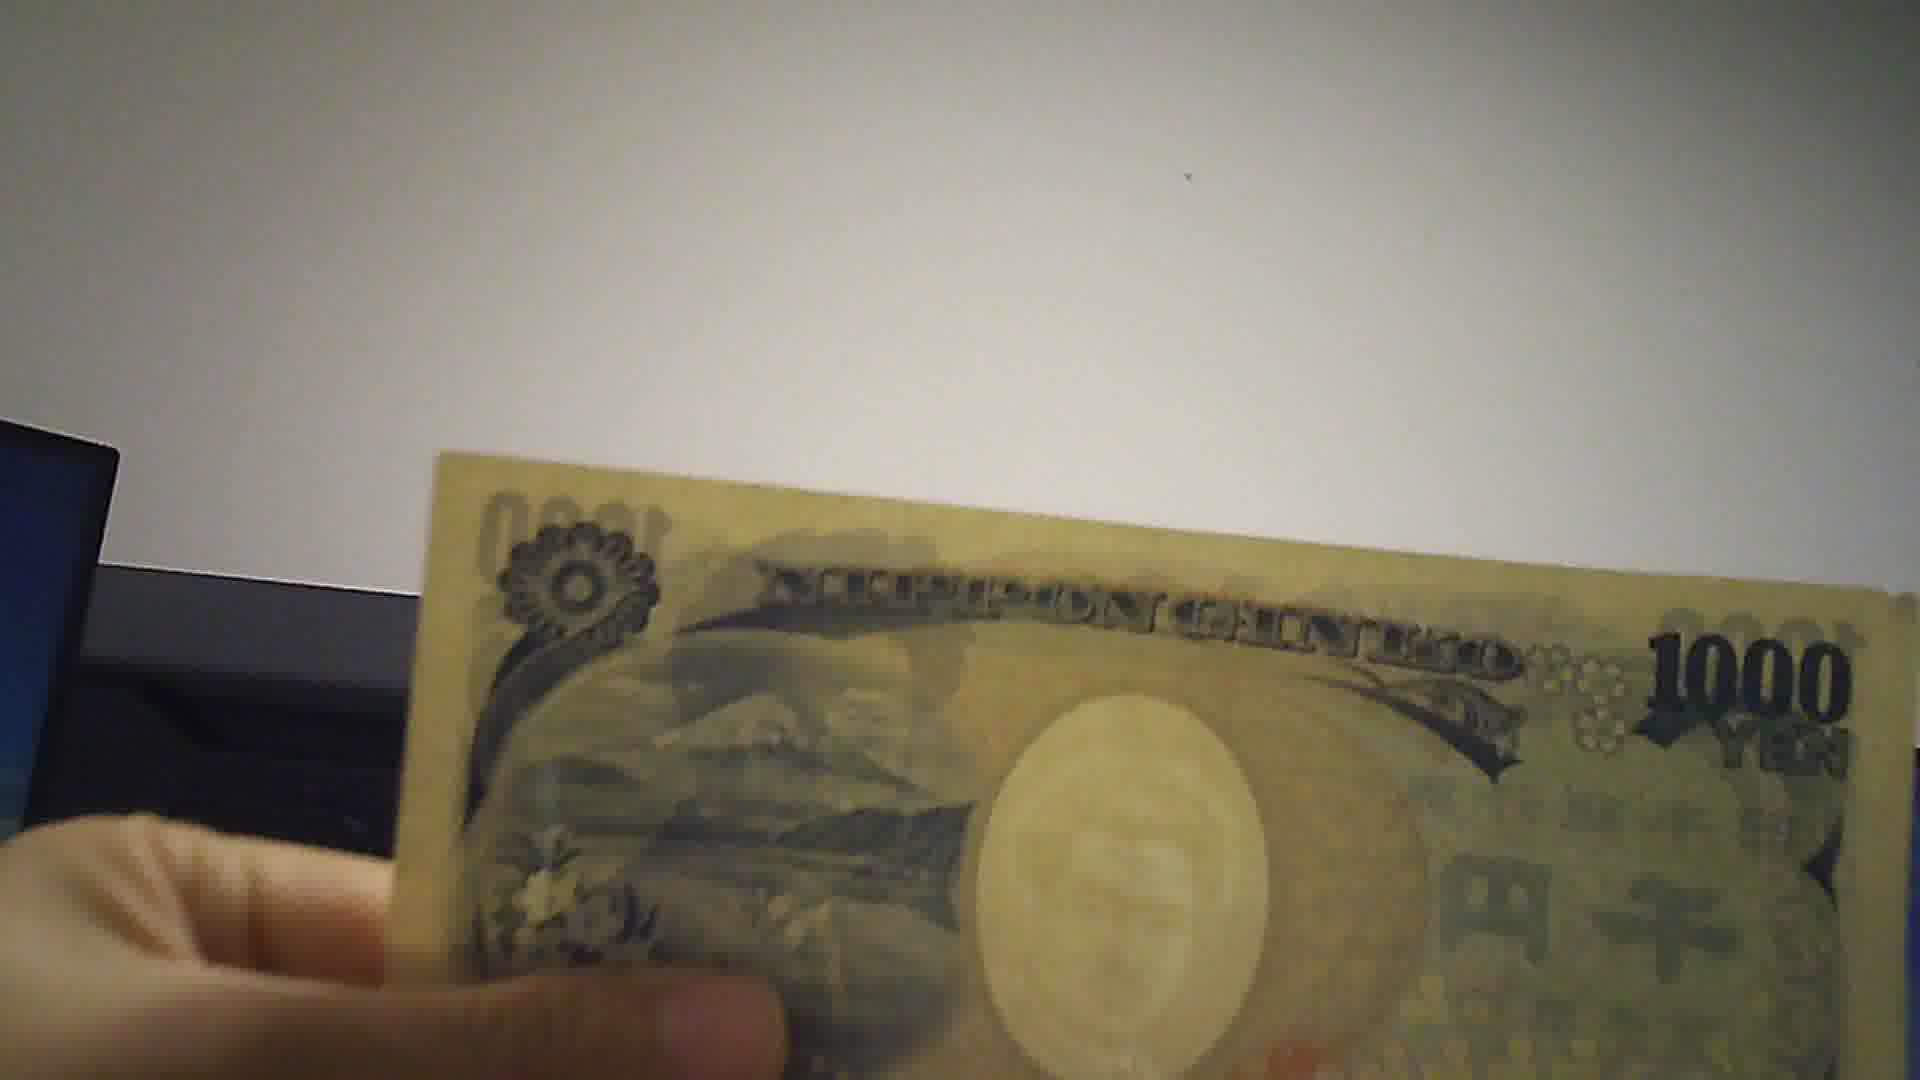1,000 Yen: (396, 450, 1908, 1062)
